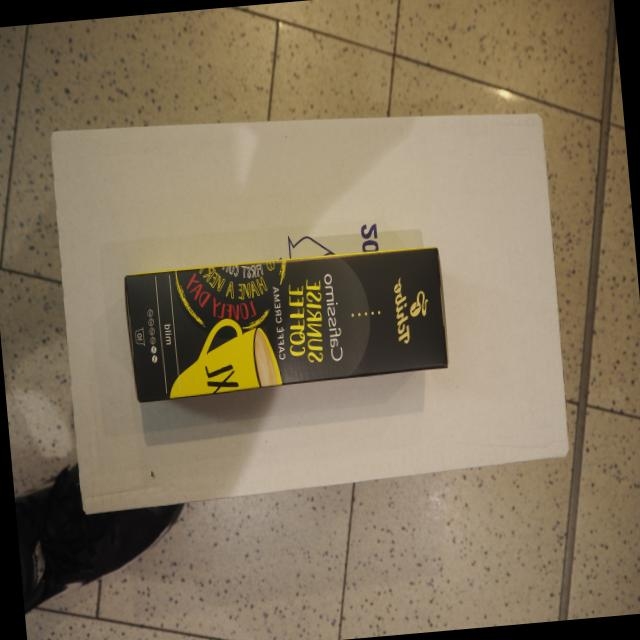Simo Sunrise: (120, 240, 452, 404)
